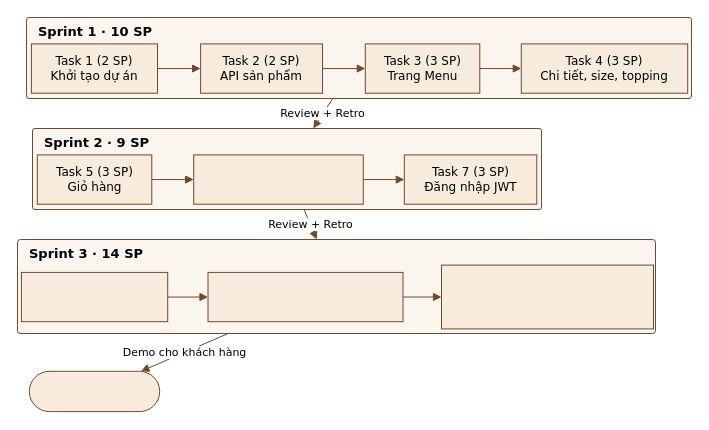
This 709x430 diagram has some shape labels left out. Here are the shapes that lost their labels. From the top down, the centre of each, then its label:
At point (278, 179): "Task 6 (3 SP) API tạo đơn PENDING".
At point (94, 296): "Task 8 (3 SP) Thanh toán mock".
At point (305, 296): "Task 9 (3 SP) Xác nhận, lịch sử, Docker".
At point (547, 296): "Task 10 (8 SP) State machine, idempotent, tồn kho, khuyến mãi".
At point (94, 391): "Increment cuối".
